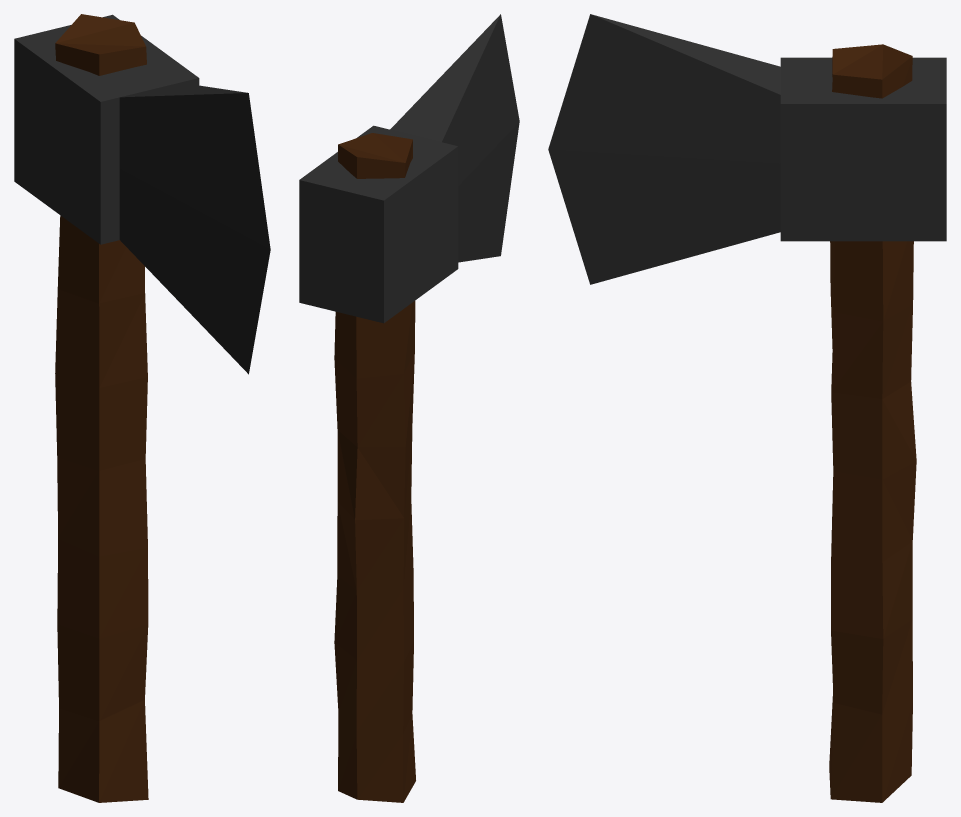
File: axe.FBX
3 views of the same model, side by side, from view 1: azimuth 30°, elevation 25°; view 2: azimuth 150°, elevation 25°; view 3: azimuth 270°, elevation 25° (orthographic). The views are drawn at different scales.
Visible parts, largest first — view 1: axe_Cylinder_015; view 2: axe_Cylinder_015; view 3: axe_Cylinder_015.
Part boxes in pixels (x1,y1,x2,y2): axe_Cylinder_015: [14, 14, 270, 802]; axe_Cylinder_015: [299, 14, 519, 802]; axe_Cylinder_015: [548, 14, 946, 802].
Bounding box in the file's own units: 0.0341 × 0.2657 × 0.124.
